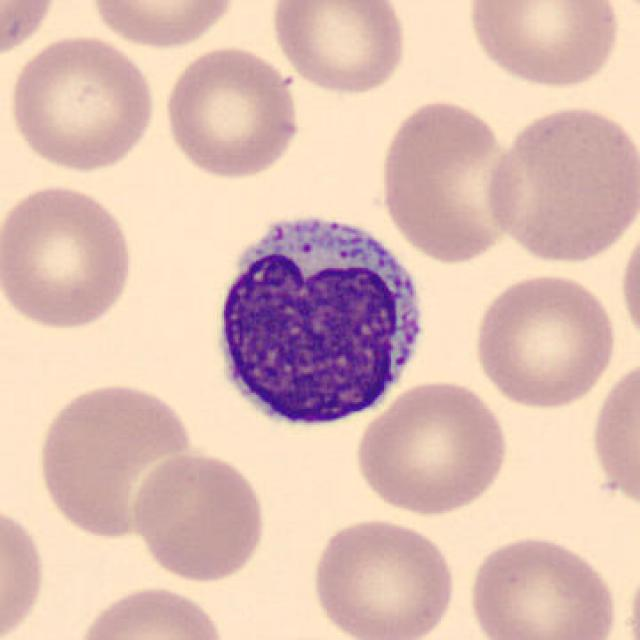Lymphocyte: (202, 199, 434, 437)
RBC: (32, 378, 199, 542), (480, 100, 638, 268), (375, 95, 525, 266), (350, 376, 514, 516), (5, 32, 158, 175), (0, 178, 139, 335), (470, 268, 620, 413), (160, 42, 304, 182), (126, 448, 270, 584), (307, 515, 458, 640), (463, 530, 620, 640), (462, 0, 624, 92), (266, 0, 411, 97), (71, 582, 229, 640), (586, 352, 640, 518), (84, 0, 240, 51), (0, 499, 50, 640), (0, 0, 62, 62), (615, 206, 640, 356), (624, 545, 640, 640), (594, 0, 640, 23)
